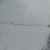zebra: (1, 11, 50, 32)
